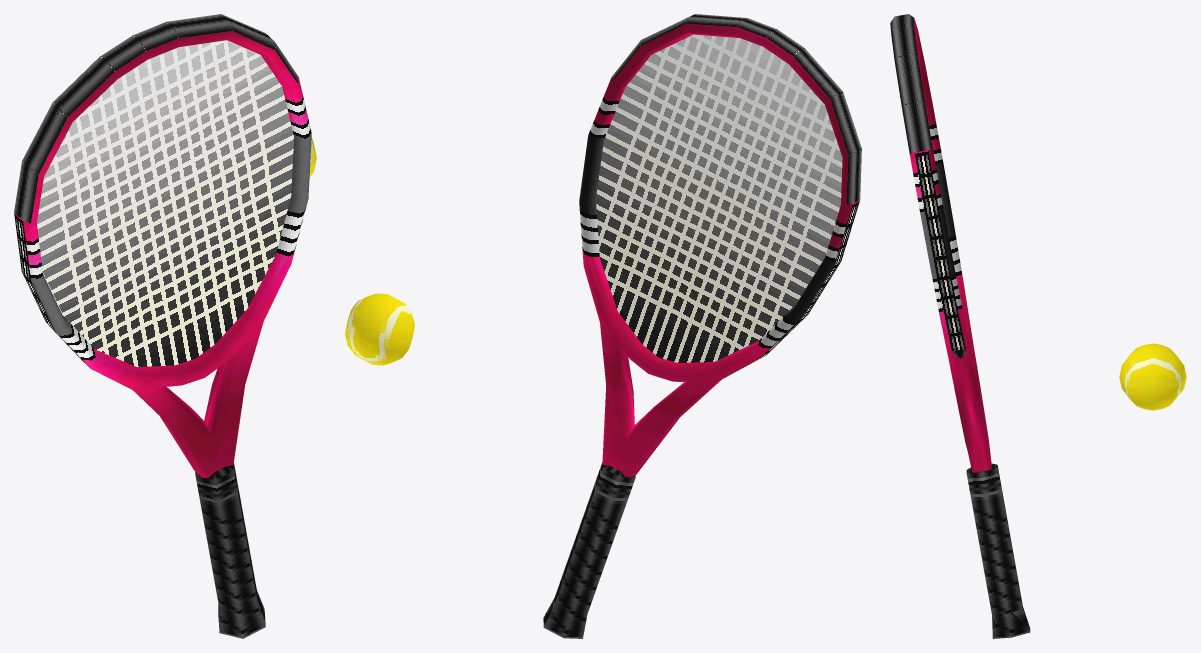
Rendered from ps2_save-icons_simple2000seriesultimatevol1lovesmash.glb.
3 views of the same model, side by side, from view 1: azimuth 30°, elevation 25°; view 2: azimuth 150°, elevation 25°; view 3: azimuth 270°, elevation 25° (orthographic). The views are drawn at different scales.
Visible parts, largest first — view 1: VIEW.ICO; view 2: VIEW.ICO; view 3: VIEW.ICO.
Part boxes in pixels (bbox=[...]): VIEW.ICO: bbox=[14, 14, 316, 638]; VIEW.ICO: bbox=[345, 14, 861, 638]; VIEW.ICO: bbox=[890, 14, 1186, 638].
Bounding box in the file's own units: 3.05 × 4.58 × 2.2.
1 material, 1 textured.
